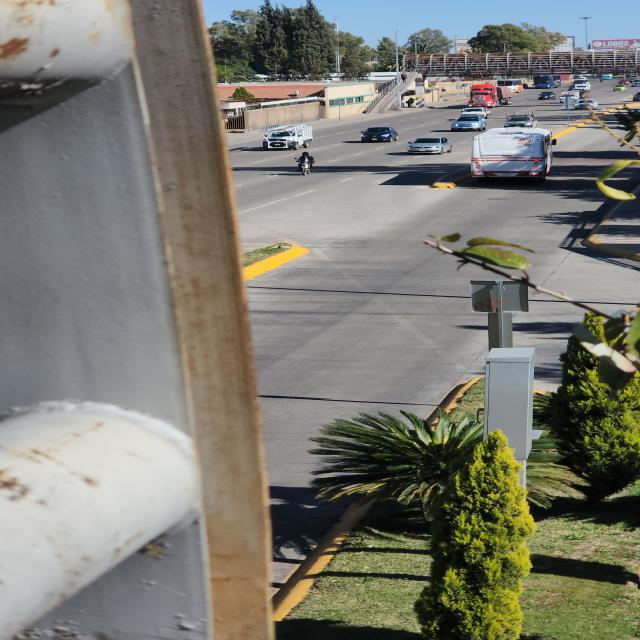Auto: (410, 138, 452, 156), (452, 112, 488, 132), (360, 125, 398, 142), (505, 116, 535, 129), (560, 92, 579, 108), (538, 92, 557, 100)
Peaton: (298, 152, 314, 176)
